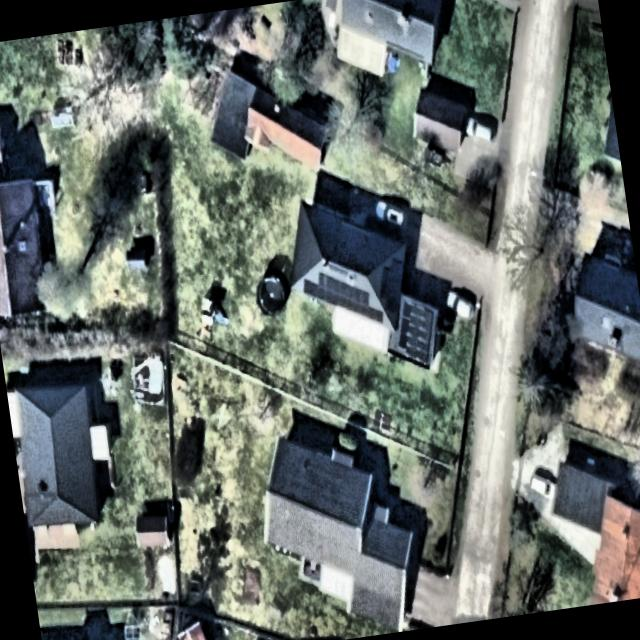roof_pv: (374, 253, 413, 322), (343, 277, 391, 331), (299, 267, 347, 317)
